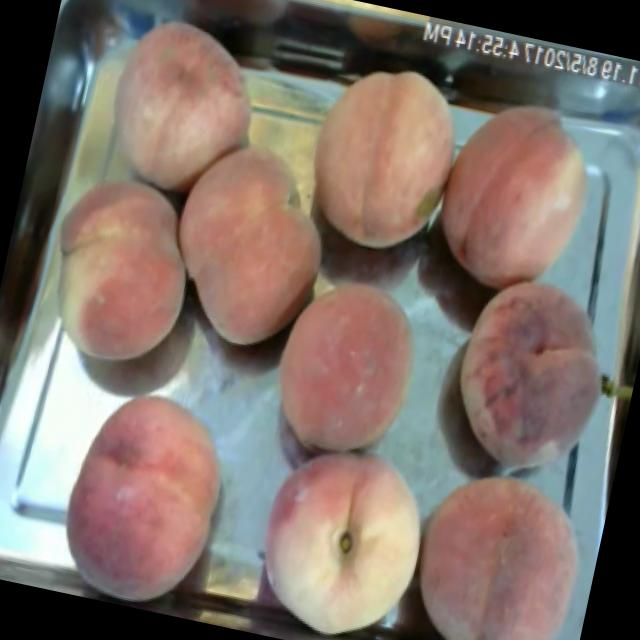Fruit: (417, 249, 640, 508), (40, 372, 248, 622), (140, 127, 353, 370), (11, 150, 226, 390), (230, 414, 449, 640), (245, 256, 449, 488), (380, 438, 613, 640), (422, 81, 616, 316), (279, 42, 472, 272), (80, 0, 278, 215)
